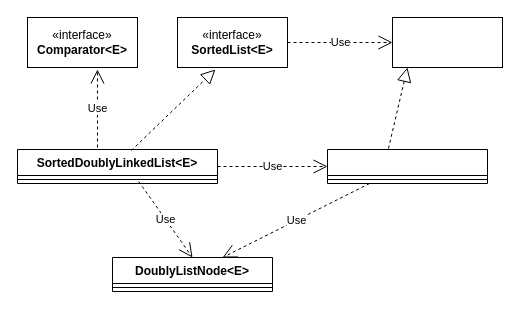
This 520x309 diagram has some shape labels left out. Each missing label, with the centre of its shape:
"DoublyIterator<E>" belongs at point 407,166.
"«interface» Iterator<E>" belongs at point 447,42.
